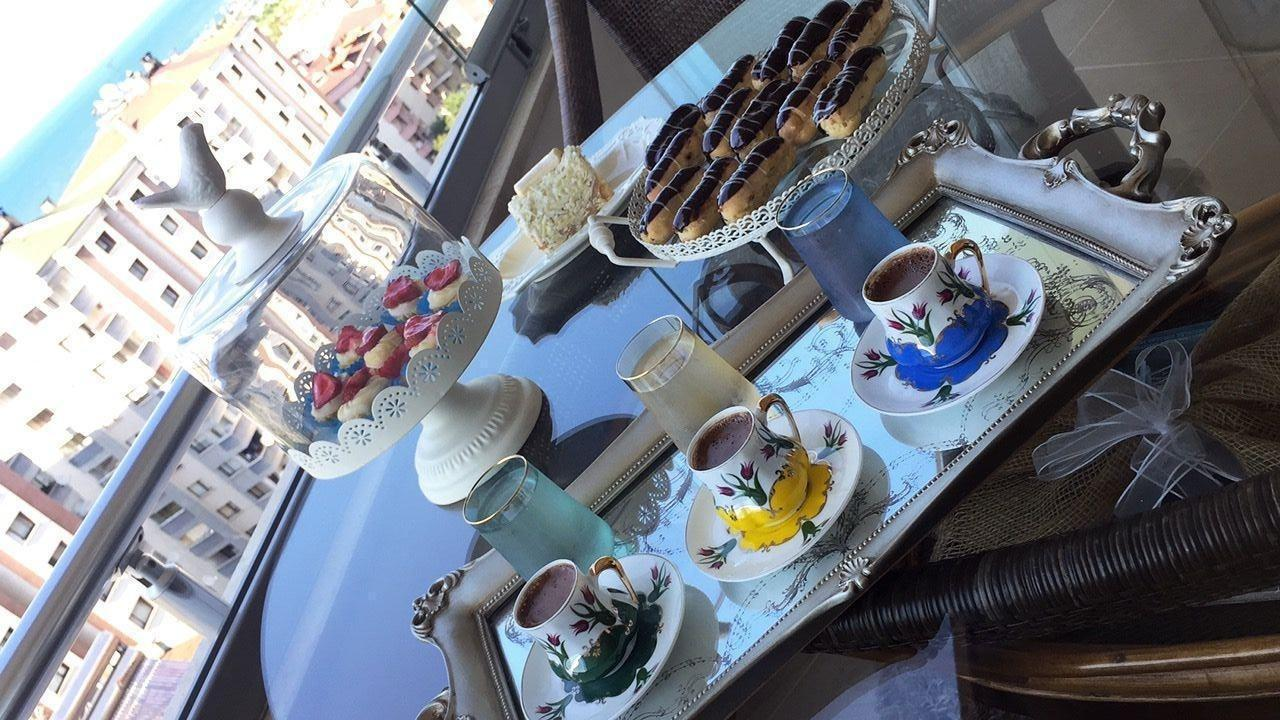cup-handle: (684, 394, 814, 530), (860, 237, 990, 371), (510, 557, 642, 686)
glass-normal: (774, 166, 920, 333), (615, 314, 775, 456), (461, 454, 631, 584)
